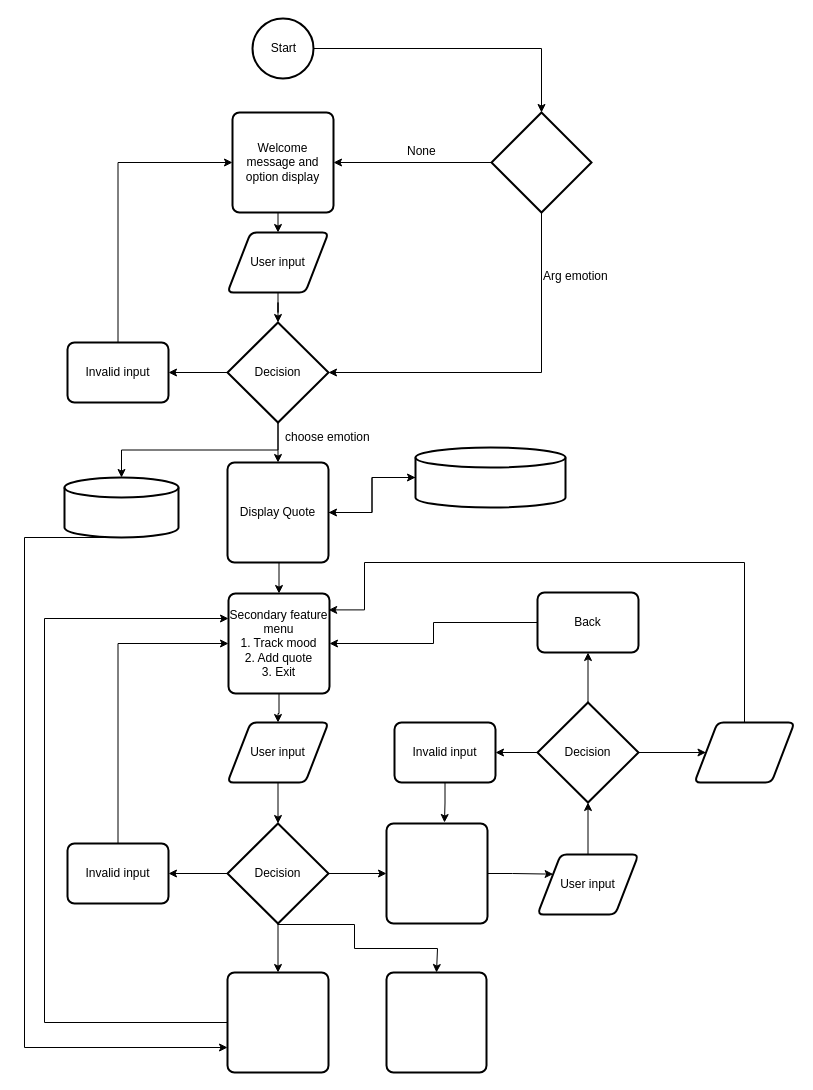
This 813x1090 diagram has some shape labels left out. Here are the shapes that lost their labels. From the top down, the box of each, then its label:
(490, 111, 592, 213): Arg passed
(414, 446, 566, 508): Emotion dictionary
(63, 476, 179, 538): Emotion counter
(693, 721, 795, 783): Quote Writes to file
(385, 822, 488, 924): Add quote Asks which emotion list you want to add to. Displays list
(226, 971, 329, 1073): Track mood Display list of emotions with counter of times selected
(385, 971, 487, 1073): Exit
